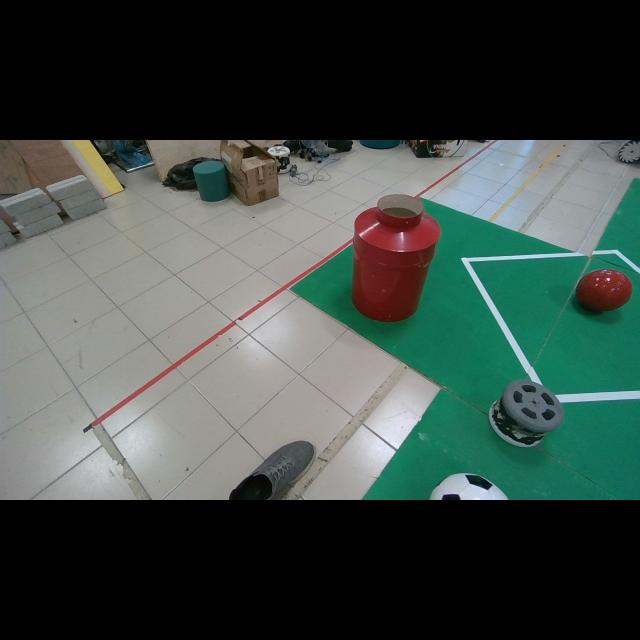R: (576, 269, 632, 311)
